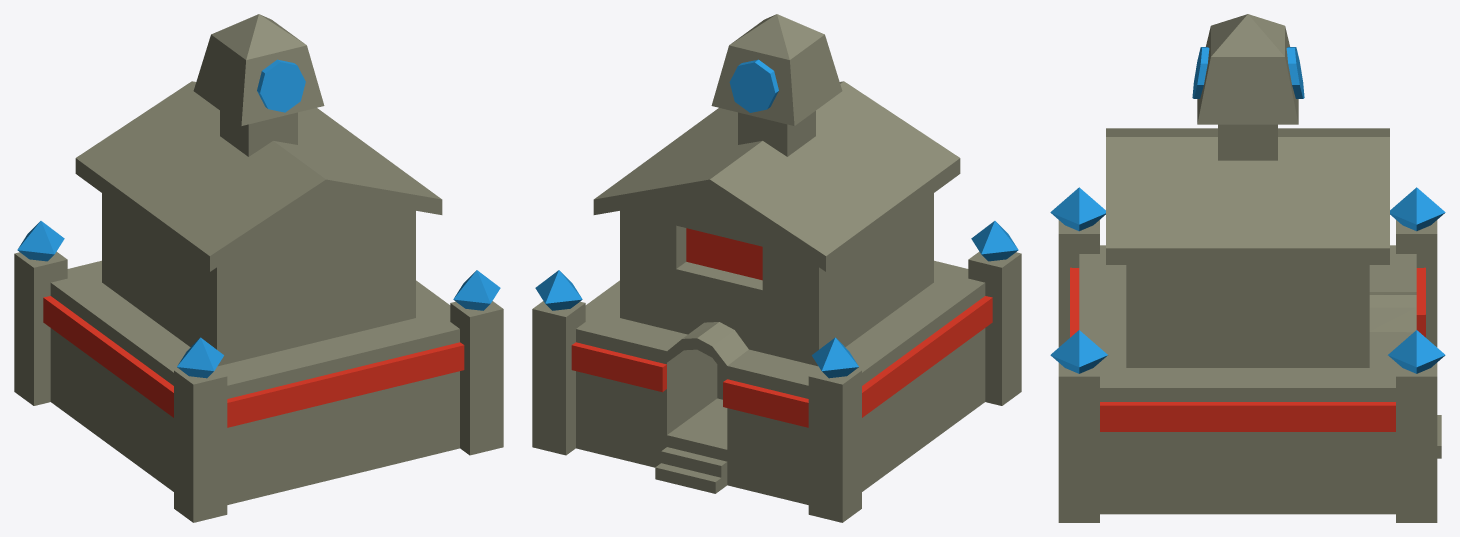
Rendered from hall.glb.
3 views of the same model, side by side, from view 1: azimuth 30°, elevation 25°; view 2: azimuth 150°, elevation 25°; view 3: azimuth 270°, elevation 25° (orthographic). The views are drawn at different scales.
Parts seen in each view (by area): view 1: HallWall, HallPlayer, HallCyanLamp; view 2: HallWall, HallPlayer, HallCyanLamp, HallAmberLamp; view 3: HallWall, HallPlayer, HallCyanLamp.
Boxes of the visible parts, x1=… form: HallWall: x1=14, y1=14, x2=503, y2=522; HallPlayer: x1=43, y1=296, x2=464, y2=427; HallCyanLamp: x1=17, y1=59, x2=500, y2=378; HallWall: x1=532, y1=14, x2=1021, y2=522; HallPlayer: x1=571, y1=296, x2=992, y2=427; HallCyanLamp: x1=535, y1=59, x2=1018, y2=378; HallAmberLamp: x1=686, y1=228, x2=762, y2=280; HallWall: x1=1058, y1=14, x2=1441, y2=522; HallPlayer: x1=1070, y1=267, x2=1425, y2=431; HallCyanLamp: x1=1050, y1=47, x2=1445, y2=373.
Size of the model in its own units: 1.58 by 1.89 by 1.58.
